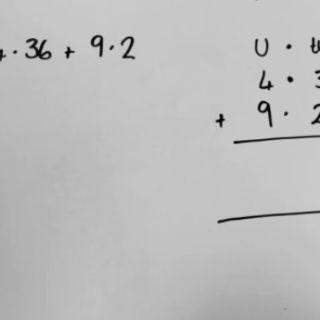.: (285, 70, 294, 84), (11, 47, 18, 58), (107, 43, 116, 51), (282, 108, 289, 118)
2: (120, 34, 139, 60)
3: (23, 36, 39, 59)
4: (259, 68, 274, 92)
6: (38, 36, 53, 62)
9: (256, 98, 276, 129), (89, 32, 105, 58)
